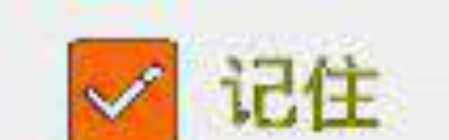CheckBox: (1, 1, 448, 139)
